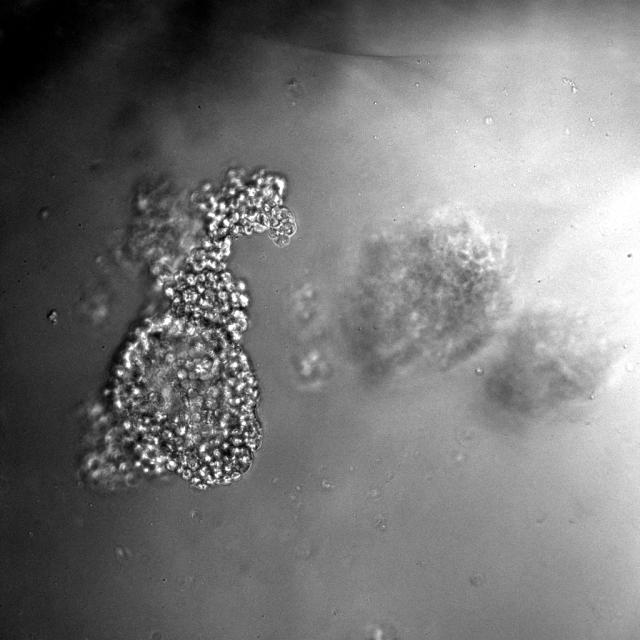organoid: (81, 168, 296, 489), (292, 207, 507, 385), (486, 305, 614, 413)
